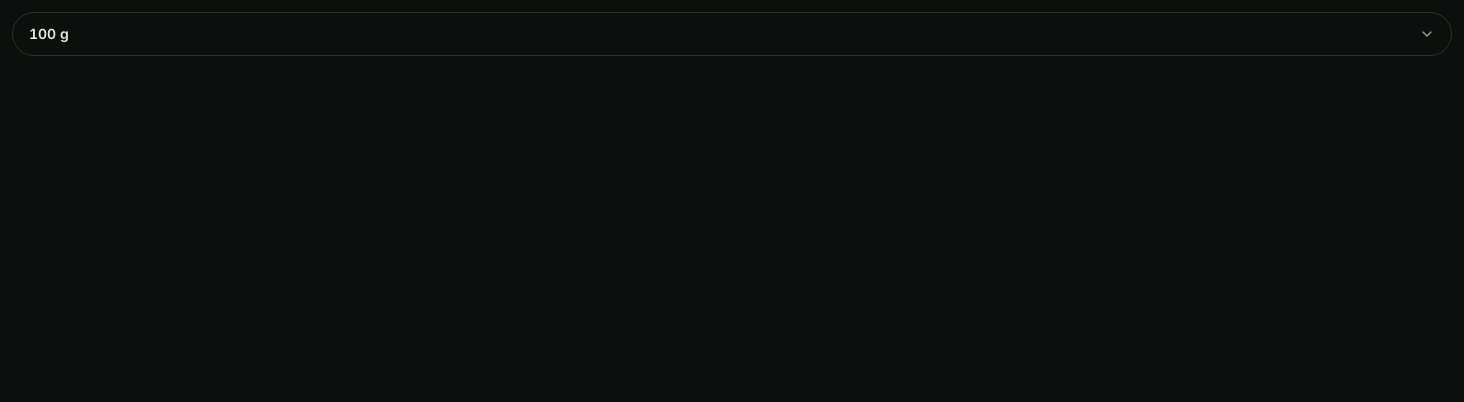
Test: GramazPill › výběr předvolby zavolá onZmena a popover zavře
Click the button named "Množství" at (49, 34), box [12, 12, 1452, 56]
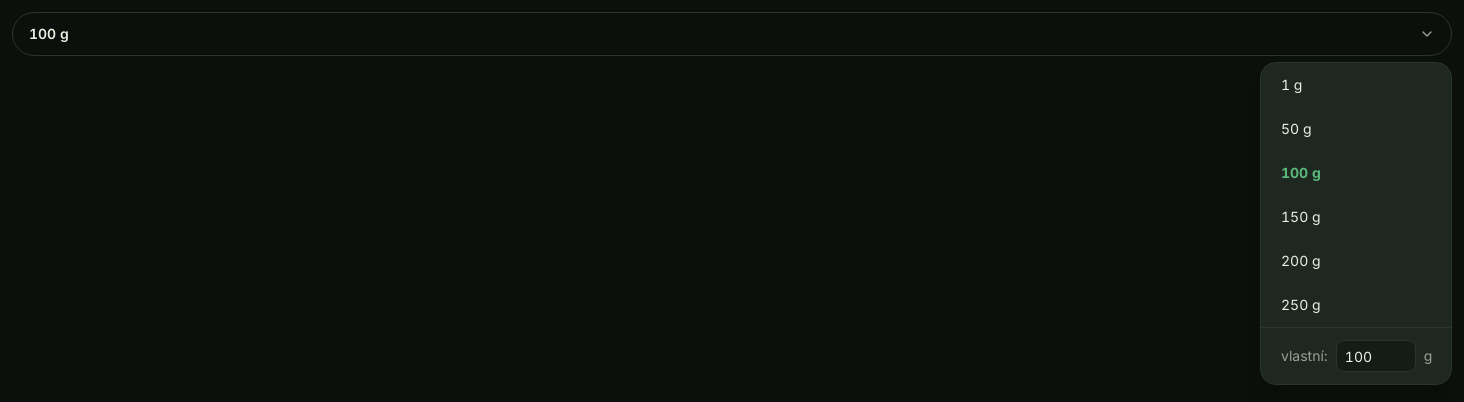
Click the menu item "150 g" at (1356, 217), box [1261, 195, 1451, 239]
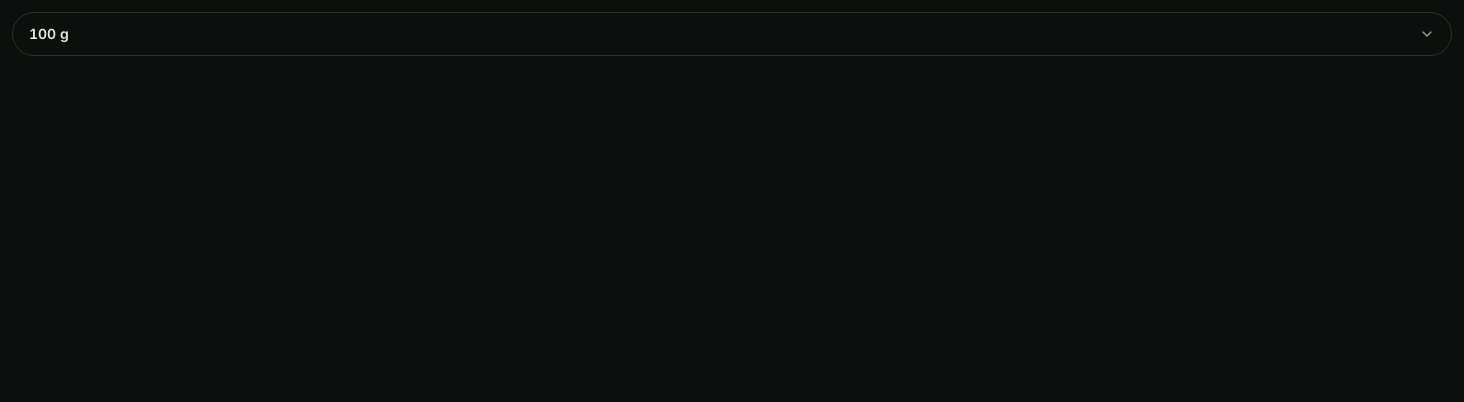
Check: the menu is gone
